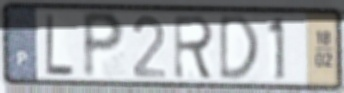1: (266, 15, 287, 82)
2: (130, 13, 170, 81)
D: (218, 12, 261, 83)
L: (44, 11, 76, 78)
P: (81, 9, 127, 82)
R: (172, 13, 217, 82)
